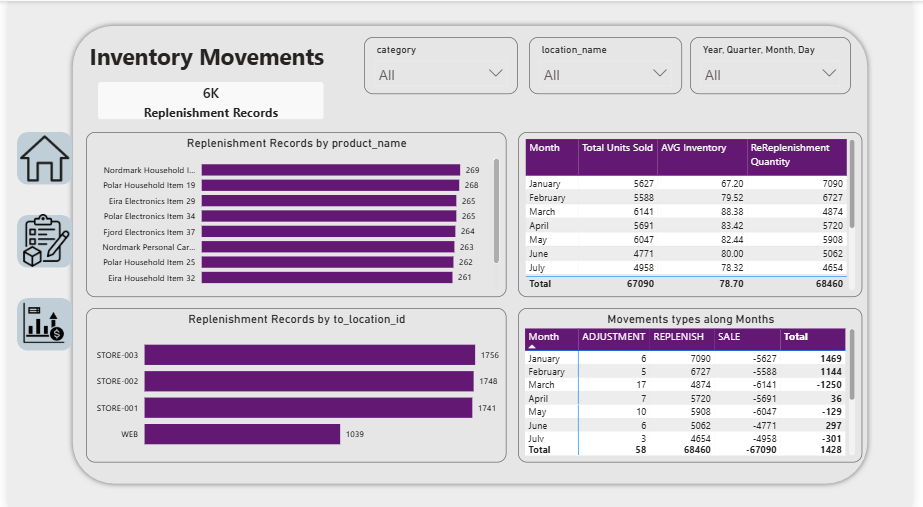

The page's visual inventory and layout, read from the dashboard file:
{"tool":"powerbi","page":{"name":"Inventory Movements ","canvas":[1280,720],"ordinal":3},"visuals":[{"type":"shape","box":[83.3,27.3,1142.4,665.2],"z":0},{"type":"textbox","box":[110.6,51,429.4,80.8],"z":1000},{"type":"slicer","fields":{"Values":["dim_date.Date.Variation.Date Hierarchy.Year","dim_date.Date.Variation.Date Hierarchy.Quarter","dim_date.Date.Variation.Date Hierarchy.Month","dim_date.Date.Variation.Date Hierarchy.Day"]},"box":[967.2,50.7,228.4,80.6],"z":2000},{"type":"tableEx","title":" Inventory Movements With Sales and Snapshot Data","fields":{"Values":["dim_date.Date.Variation.Date Hierarchy.Month","Measure.Total Qty Sold","Measure.AVG Inventory","Measure.ReReplenishment Quantity"]},"box":[722.8,185.7,487.6,233.9],"z":3000},{"type":"barChart","fields":{"Y":["Measure.Replenishment Records"],"Category":["silver__product_master__lite.product_name"]},"box":[110.4,185.1,595.5,234.3],"z":4000},{"type":"barChart","fields":{"Y":["Measure.Replenishment Records"],"Category":["silver__inventory_movements__lite.to_location_id"]},"box":[110.4,435.8,595.5,219.4],"z":5000},{"type":"cardVisual","fields":{"Data":["Measure.Replenishment Records"]},"box":[110.6,97.8,354.3,87.9],"z":6000},{"type":"pivotTable","title":"Movements types along Months","fields":{"Rows":["dim_date.Date.Variation.Date Hierarchy.Month"],"Columns":["silver__inventory_movements__lite.movement_type"],"Values":["Sum(silver__inventory_movements__lite.qty)"]},"box":[722.4,435.8,488.1,219.4],"z":7000},{"type":"slicer","fields":{"Values":["location.location_name"]},"box":[738.4,51,216.9,80.8],"z":8000},{"type":"shape","box":[12.7,186.1,78.5,74.7],"z":9000},{"type":"shape","box":[12.7,303.2,78.5,74.7],"z":10000},{"type":"shape","box":[12.7,420.3,78.5,74.7],"z":11000},{"type":"image","box":[16.5,186.1,69.6,74.7],"z":12000},{"type":"image","box":[10.1,426.6,82.3,59.5],"z":13000},{"type":"slicer","fields":{"Values":["product.category"]},"box":[504.5,50.7,217.9,80.6],"z":14000},{"type":"image","box":[12.8,301.9,83.6,75.1],"z":15000}]}

Visuals, with their boxes in screenshot pixels (x1, y1, x2, y2), scaled from the page's 1280x720 canvas onto the 923x507 screenshot:
shape: Rect(60, 19, 884, 488)
textbox: Rect(80, 36, 389, 93)
slicer - dim_date.Date.Variation.Date Hierarchy.Year x dim_date.Date.Variation.Date Hierarchy.Quarter: Rect(697, 36, 862, 92)
" Inventory Movements With Sales and Snapshot Data" tableEx: Rect(521, 131, 873, 295)
barChart - Measure.Replenishment Records x silver__product_master__lite.product_name: Rect(80, 130, 509, 295)
barChart - Measure.Replenishment Records x silver__inventory_movements__lite.to_location_id: Rect(80, 307, 509, 461)
cardVisual - Measure.Replenishment Records: Rect(80, 69, 335, 131)
"Movements types along Months" pivotTable: Rect(521, 307, 873, 461)
slicer - location.location_name: Rect(532, 36, 689, 93)
shape: Rect(9, 131, 66, 184)
shape: Rect(9, 214, 66, 266)
shape: Rect(9, 296, 66, 349)
image: Rect(12, 131, 62, 184)
image: Rect(7, 300, 67, 342)
slicer - product.category: Rect(364, 36, 521, 92)
image: Rect(9, 213, 70, 265)
